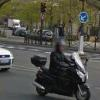Motorcycle: (24, 42, 100, 100)
